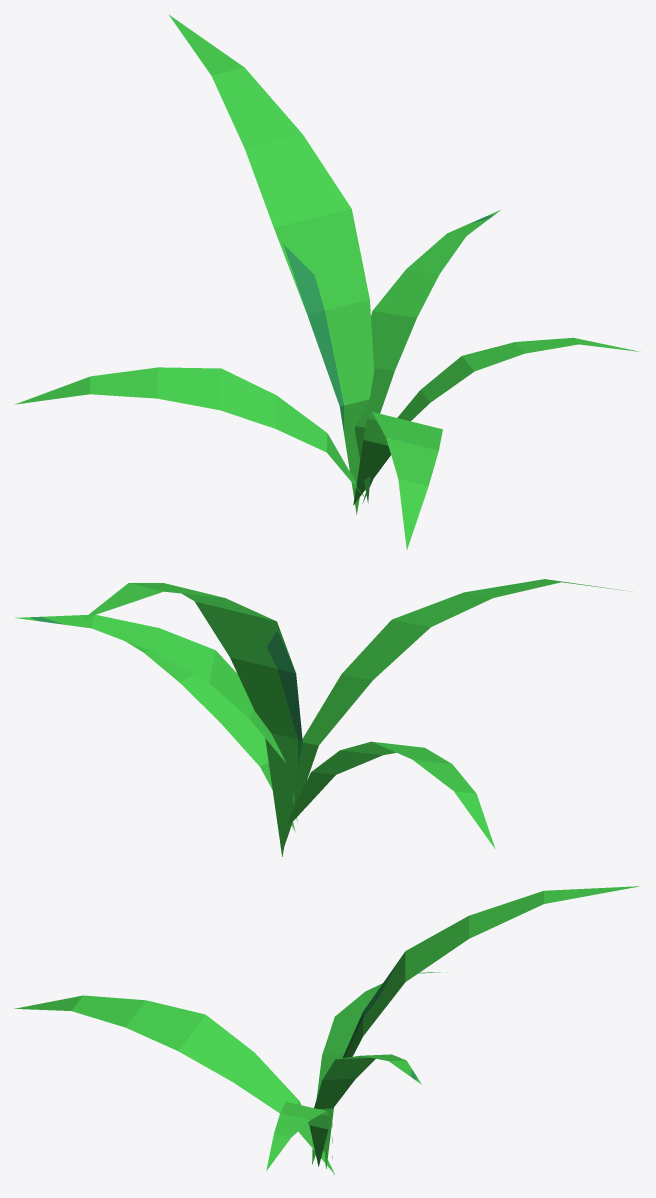
File: Grass_2.fbx
3 renders of one model, top to bottom at view 1: azimuth 30°, elevation 25°; view 2: azimuth 150°, elevation 25°; view 3: azimuth 270°, elevation 25°, orthographic. The views are drawn at different scales.
Parts seen in each view (by area): view 1: Plane; view 2: Plane; view 3: Plane.
Boxes of the visible parts, x1,y1,x2,y2 form: Plane: (15,15,640,549); Plane: (15,579,633,856); Plane: (14,886,641,1174).
Size of the model in its own units: 735 by 495 by 946.
